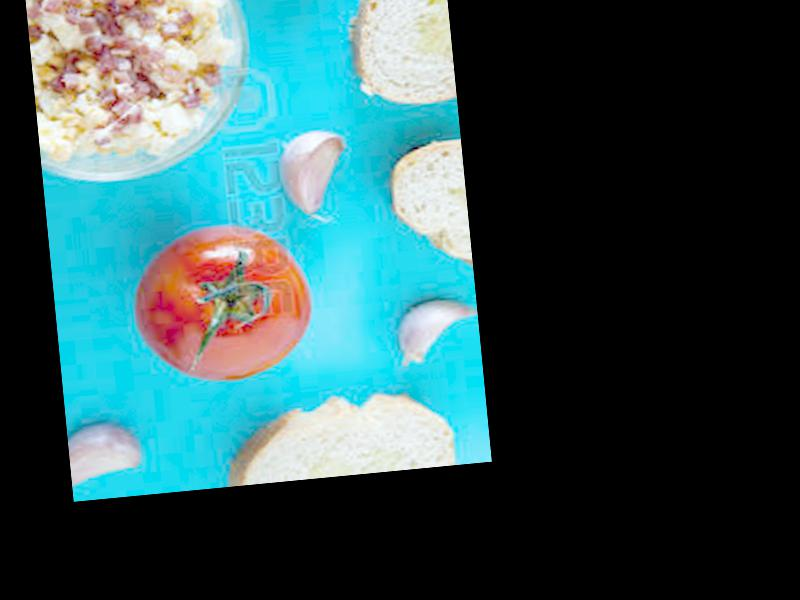Tomato: (129, 224, 319, 389)
